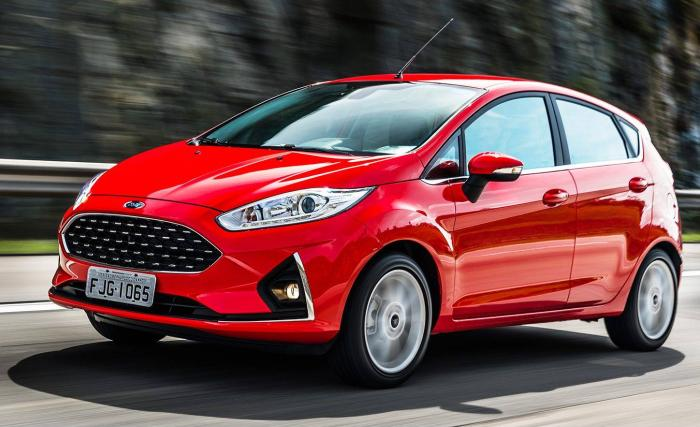Carro: (46, 72, 682, 389)
